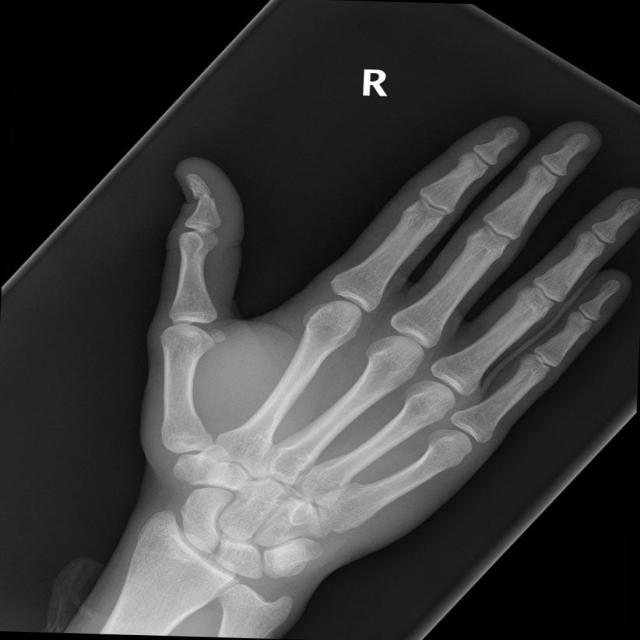Transverse Displaced: (159, 161, 234, 240)
